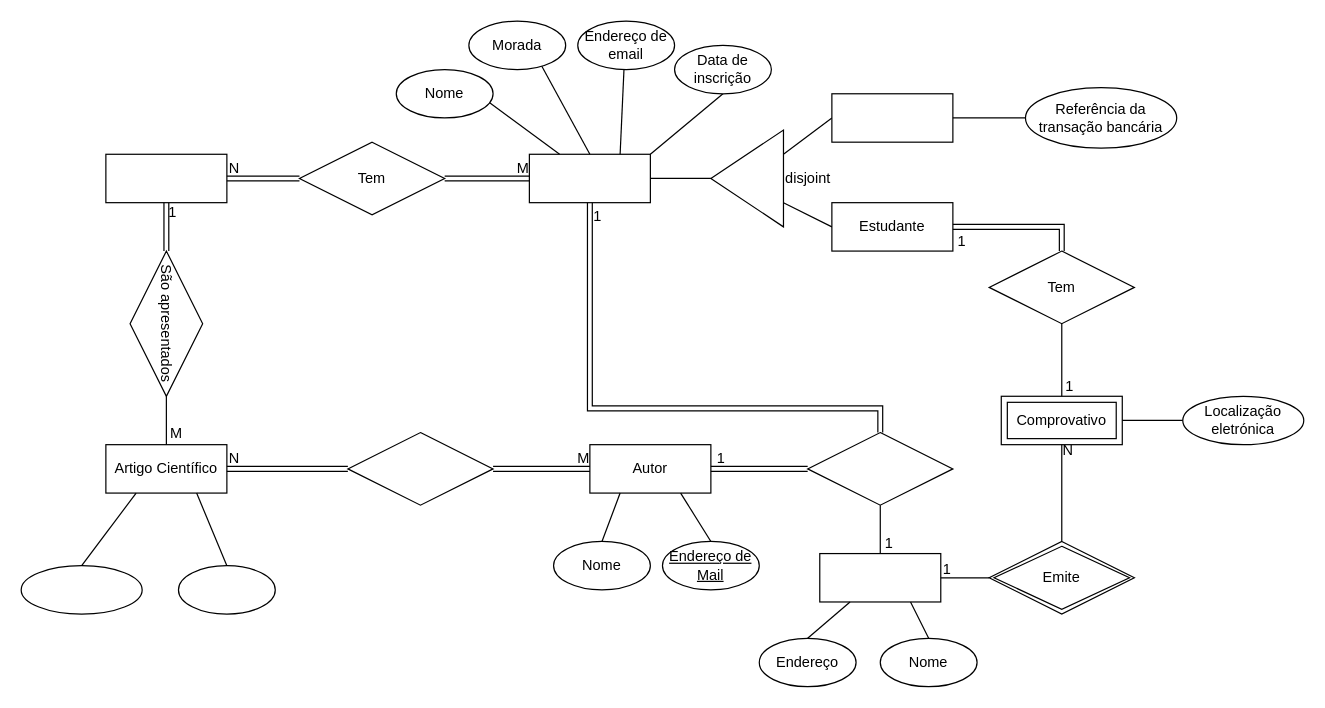
This 1325x708 diagram has some shape labels left out. The centre of each missing label's shape, as x and y in pixels:
Autorado por: the point at 420,468
Conferência: the point at 166,178
Instituição: the point at 880,577
IS-A: the point at 746,178
Não Estudante: the point at 892,117
Número de Registo: the point at 81,589
Participante: the point at 589,178
Pertence a: the point at 879,468
Título: the point at 226,589
